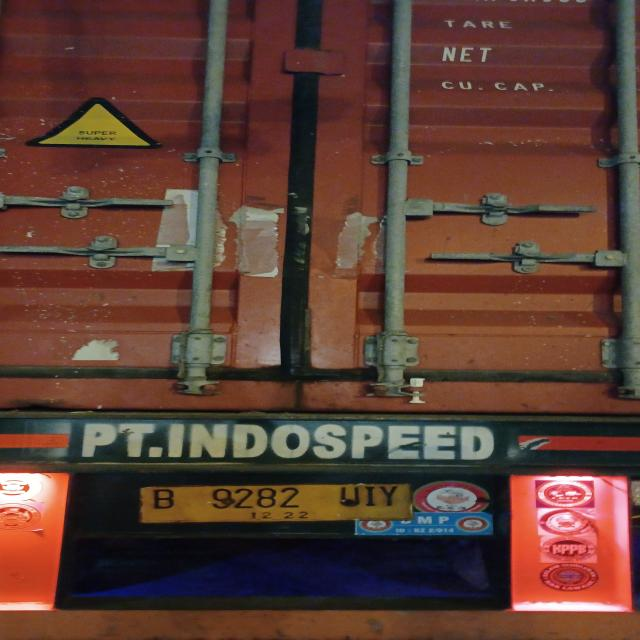seal: (407, 378, 433, 404)
